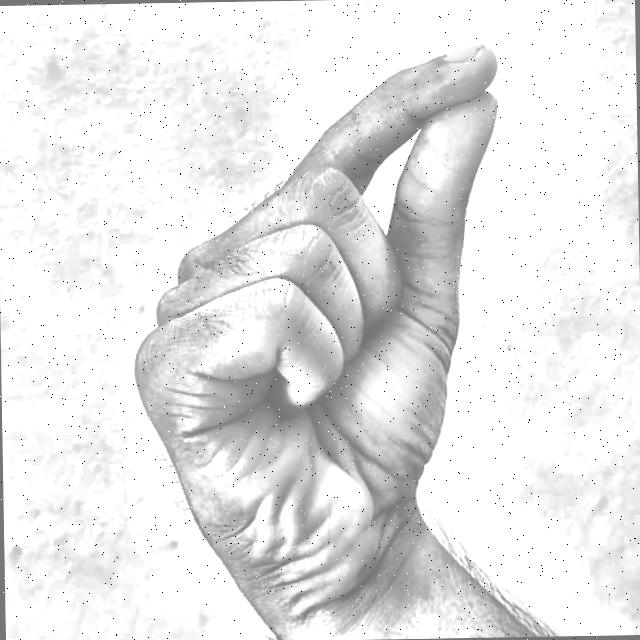Anusshar: (107, 19, 536, 622)
